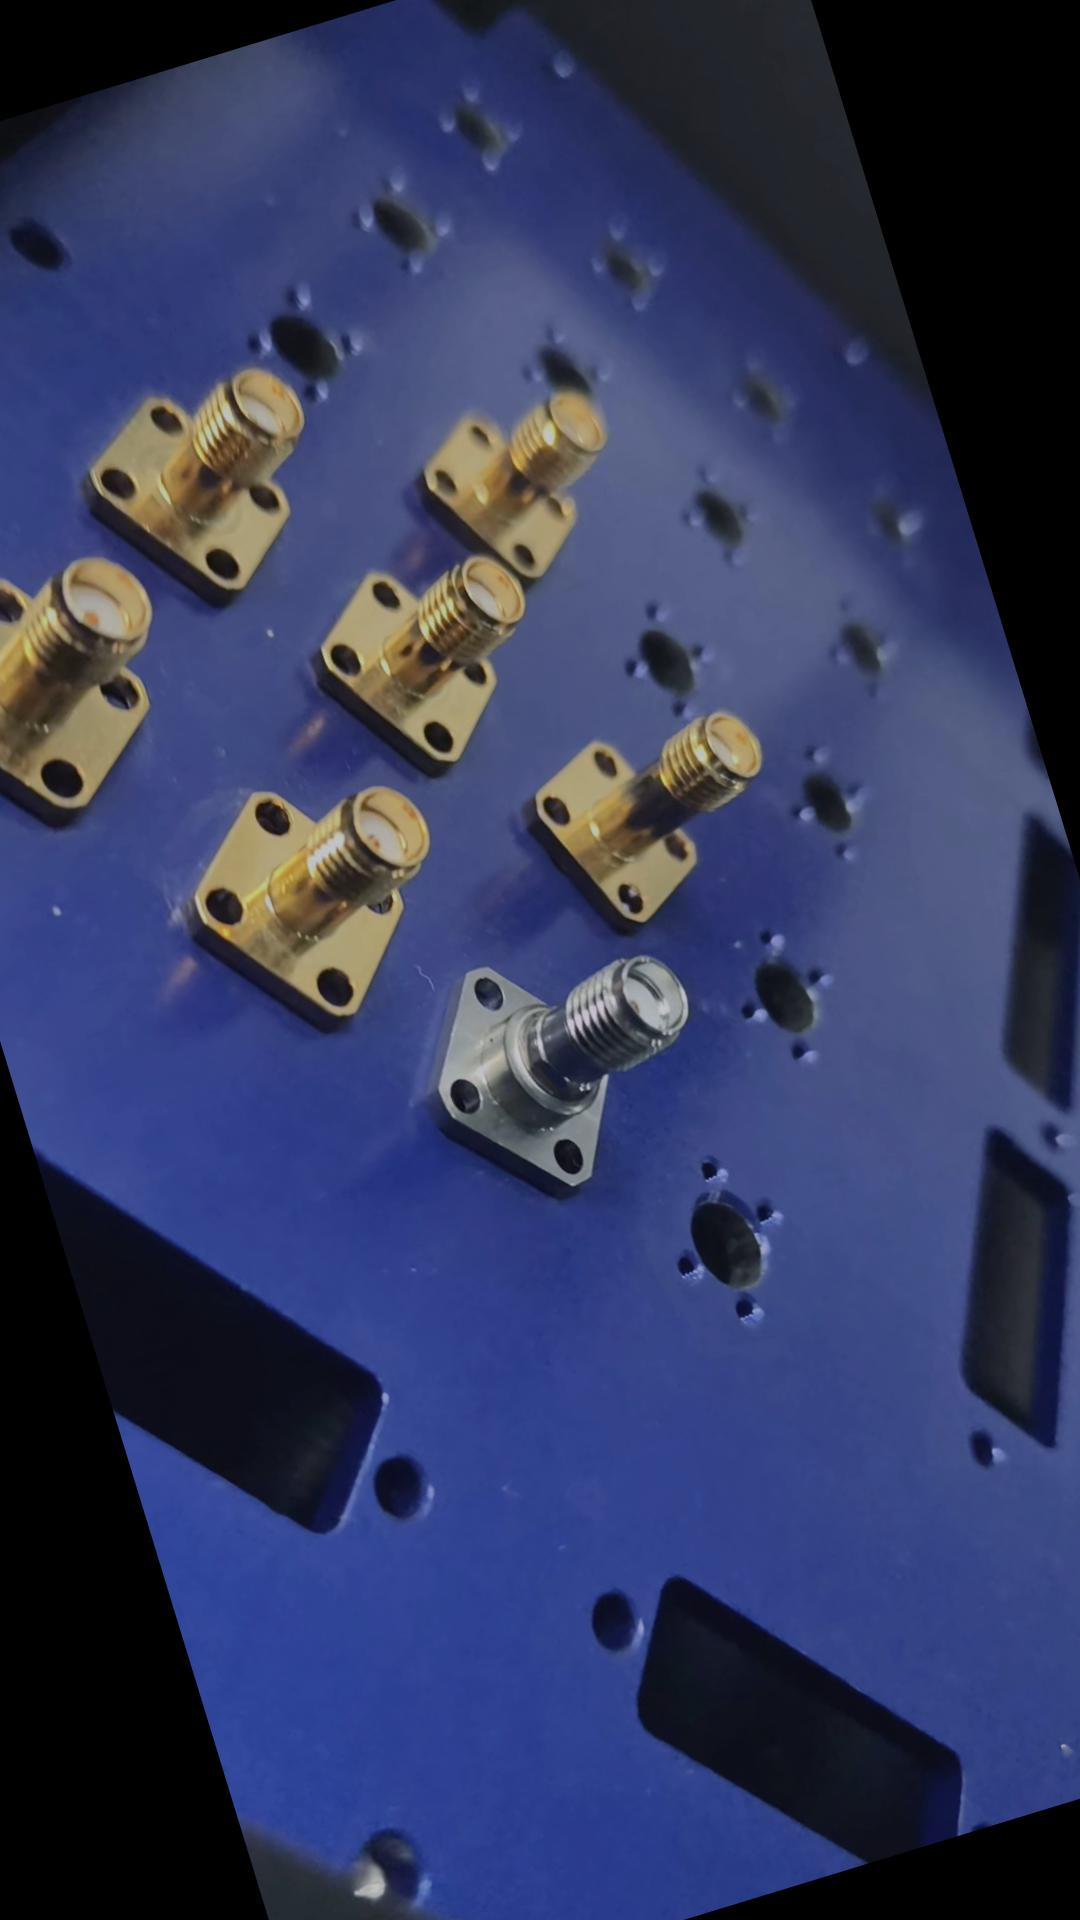SMA: (392, 891, 735, 1218), (152, 735, 472, 1055), (61, 334, 347, 633), (517, 675, 808, 945), (0, 520, 220, 855), (290, 512, 545, 793), (404, 363, 653, 613)
